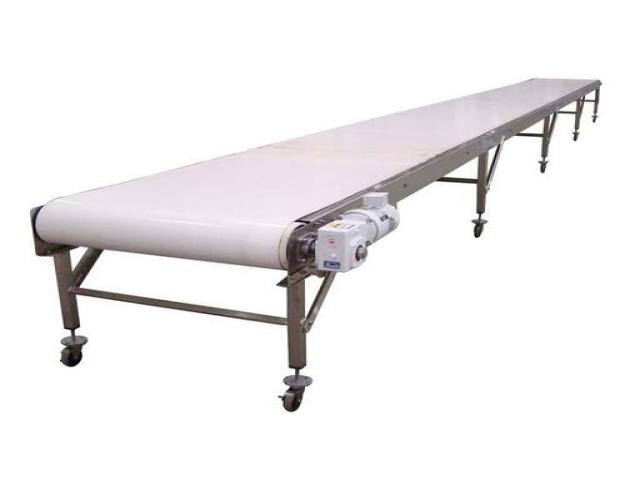conveyor: (26, 74, 605, 413)
